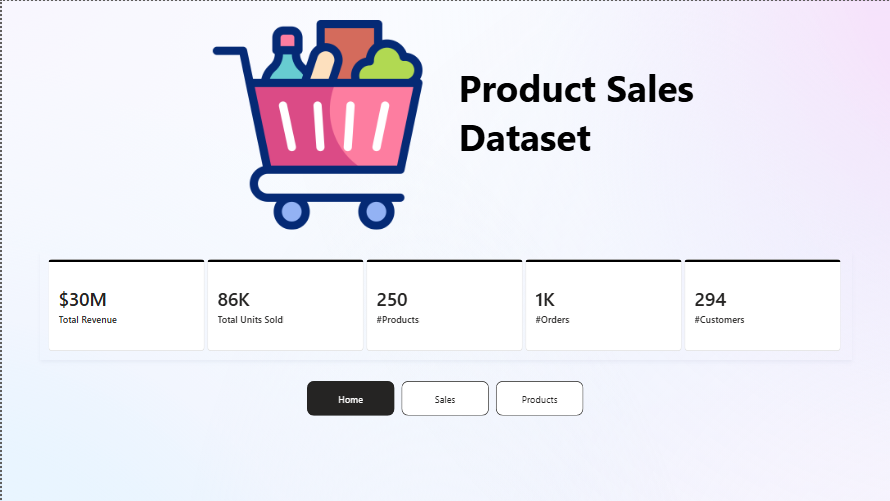

This screenshot's page, from the dashboard's own definition file:
{"tool":"powerbi","page":{"name":"Home","canvas":[1280,720],"ordinal":0},"visuals":[{"type":"cardVisual","fields":{"Data":["DAX Measure.Total Revenue","DAX Measure.Total Units Sold","DAX Measure.#Products","DAX Measure.#Orders","DAX Measure.#Customers"]},"box":[54.7,360,1169.3,157],"z":0},{"type":"pageNavigator","box":[439.2,547.2,400.3,50.4],"z":1000},{"type":"image","box":[299.5,27.4,309.6,302.4],"z":2000},{"type":"textbox","box":[652.3,82.1,387.4,193],"z":3000}]}

Visuals, with their boxes in screenshot pixels (x1, y1, x2, y2), scaled from the page's 1280x720 canvas onto the 890x501 screenshot:
cardVisual - DAX Measure.Total Revenue x DAX Measure.Total Units Sold: 38, 250, 851, 360
pageNavigator: 305, 381, 584, 416
image: 208, 19, 424, 229
textbox: 454, 57, 723, 191
